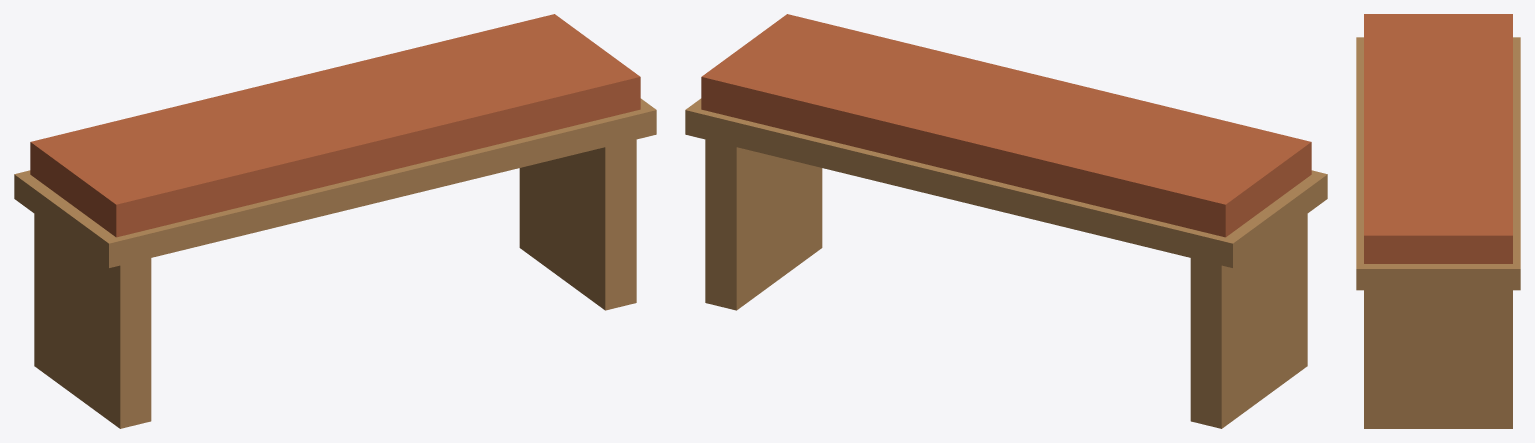
3 renders of one model, left to right at view 1: azimuth 30°, elevation 25°; view 2: azimuth 150°, elevation 25°; view 3: azimuth 270°, elevation 25°, orthographic. The views are drawn at different scales.
Visible parts, largest first — view 1: banca_master; view 2: banca_master; view 3: banca_master.
Part boxes in pixels (x1,y1,x2,y2): banca_master: (14,14,656,428); banca_master: (685,14,1327,428); banca_master: (1356,14,1520,428).
Bounding box in the file's own units: 1.4 × 0.42 × 0.55.
